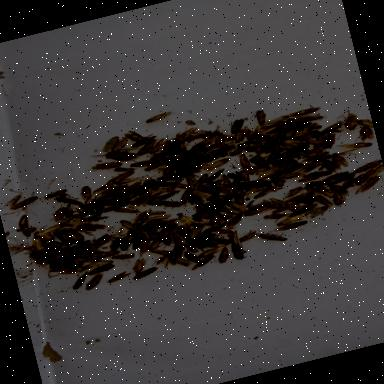pbw: (130, 152, 176, 170), (46, 258, 89, 276), (60, 262, 101, 276), (256, 227, 286, 246), (138, 214, 178, 228), (85, 246, 120, 261), (338, 138, 371, 153), (172, 126, 199, 144), (9, 194, 39, 210), (352, 158, 384, 173), (202, 156, 232, 172), (146, 190, 178, 205), (91, 157, 123, 172), (103, 169, 135, 184), (286, 104, 320, 118), (268, 200, 302, 214), (352, 168, 378, 186), (296, 108, 325, 124), (260, 113, 290, 128), (252, 184, 282, 199), (188, 254, 216, 270), (276, 134, 304, 150), (86, 256, 118, 270), (256, 162, 284, 178), (296, 171, 330, 184), (274, 168, 305, 182), (134, 138, 158, 156), (76, 238, 100, 256), (302, 182, 326, 200), (82, 272, 106, 290), (205, 232, 232, 248), (144, 219, 177, 232), (196, 244, 226, 258), (112, 203, 140, 218), (102, 199, 132, 213), (80, 210, 110, 224), (59, 216, 89, 230), (186, 186, 212, 202), (142, 183, 174, 196), (276, 219, 308, 232), (90, 232, 116, 248), (128, 190, 154, 206), (325, 172, 354, 186), (114, 180, 143, 194), (130, 266, 159, 280), (50, 244, 75, 260), (65, 224, 85, 244), (173, 178, 198, 194), (134, 238, 154, 258), (228, 116, 250, 134), (98, 134, 120, 152), (154, 174, 182, 188), (144, 110, 172, 124), (226, 197, 249, 214), (274, 213, 304, 226), (110, 249, 140, 262), (85, 191, 111, 206), (86, 262, 116, 275), (185, 128, 212, 142), (304, 176, 333, 189), (201, 168, 226, 183), (300, 168, 331, 180), (157, 196, 180, 212), (90, 195, 116, 209), (262, 209, 290, 222), (304, 204, 330, 218), (254, 123, 282, 136), (206, 210, 225, 229), (330, 150, 349, 169), (304, 152, 334, 164), (330, 188, 350, 206), (142, 212, 172, 224), (232, 152, 252, 170), (124, 128, 146, 144), (222, 202, 244, 218), (248, 152, 270, 168), (243, 178, 272, 190), (321, 157, 340, 175), (109, 144, 140, 155), (328, 181, 348, 198), (76, 201, 96, 218), (39, 187, 67, 199), (184, 223, 205, 239), (121, 182, 142, 198), (46, 237, 68, 252), (262, 198, 284, 213), (314, 192, 332, 210), (130, 256, 148, 274), (243, 204, 270, 216), (157, 231, 175, 249), (230, 241, 247, 260), (82, 219, 105, 233), (109, 136, 129, 152), (119, 216, 139, 232), (70, 273, 90, 289), (225, 213, 245, 229), (363, 163, 384, 178), (114, 174, 140, 186), (106, 270, 132, 282), (319, 121, 343, 134), (194, 135, 220, 147), (210, 223, 232, 237), (302, 134, 324, 148), (300, 149, 328, 160), (214, 246, 231, 264), (315, 182, 332, 200), (183, 171, 200, 189), (46, 252, 63, 270), (168, 231, 186, 248), (147, 137, 166, 153), (91, 180, 116, 192), (154, 222, 178, 234), (36, 228, 54, 244), (66, 216, 84, 232), (51, 206, 69, 222), (108, 236, 126, 252), (356, 116, 374, 132), (31, 236, 46, 255), (322, 170, 350, 180), (228, 142, 248, 156), (268, 194, 288, 208), (358, 124, 374, 141), (129, 234, 146, 250), (194, 204, 211, 220), (182, 249, 199, 265), (299, 145, 326, 155), (129, 210, 148, 224), (148, 246, 170, 258), (179, 154, 205, 164), (244, 184, 270, 194), (322, 132, 338, 148), (178, 210, 194, 226), (15, 213, 31, 229), (118, 234, 134, 250), (210, 130, 226, 146), (178, 188, 193, 205), (54, 192, 72, 206), (113, 162, 134, 174), (245, 164, 270, 174), (284, 122, 300, 137), (154, 172, 178, 182), (254, 108, 268, 125), (78, 184, 92, 201), (249, 142, 266, 156), (171, 254, 188, 267), (144, 161, 166, 171), (284, 186, 302, 198), (231, 129, 246, 143), (174, 141, 188, 156), (7, 194, 23, 207), (226, 170, 243, 182), (184, 160, 202, 171), (38, 252, 52, 266), (158, 138, 172, 152), (146, 238, 162, 250), (62, 202, 74, 218), (28, 251, 42, 264), (19, 226, 34, 238), (144, 178, 158, 190), (185, 239, 197, 253), (138, 227, 150, 241), (160, 164, 174, 176), (228, 231, 240, 244), (238, 168, 249, 182)
